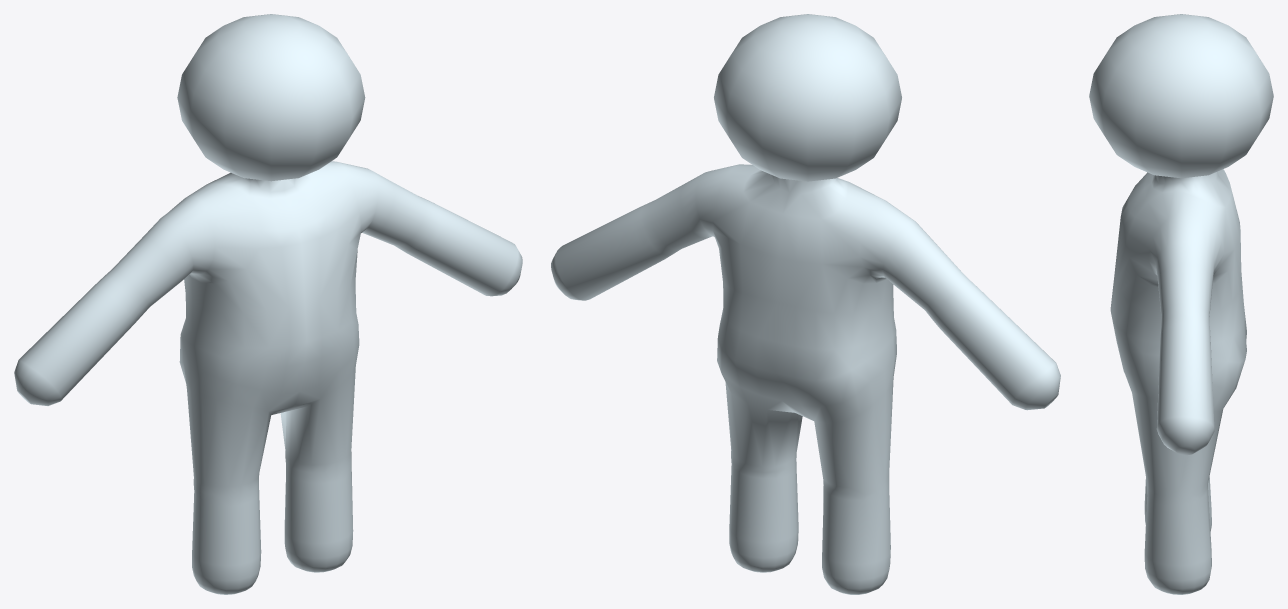
3 renders of one model, left to right at view 1: azimuth 30°, elevation 25°; view 2: azimuth 150°, elevation 25°; view 3: azimuth 270°, elevation 25°, orthographic.
Visible parts, largest first — view 1: player; view 2: player; view 3: player.
Part boxes in pixels (x1,y1,x2,y2): player: [14, 14, 522, 594]; player: [551, 14, 1060, 594]; player: [1089, 14, 1273, 594].
Size of the model in its own units: 190 by 201 by 61.91.
